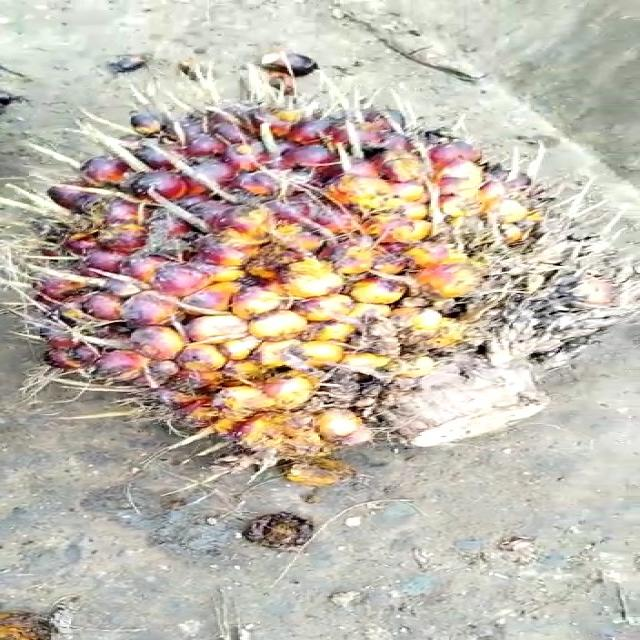palm oil: (0, 100, 640, 493)
